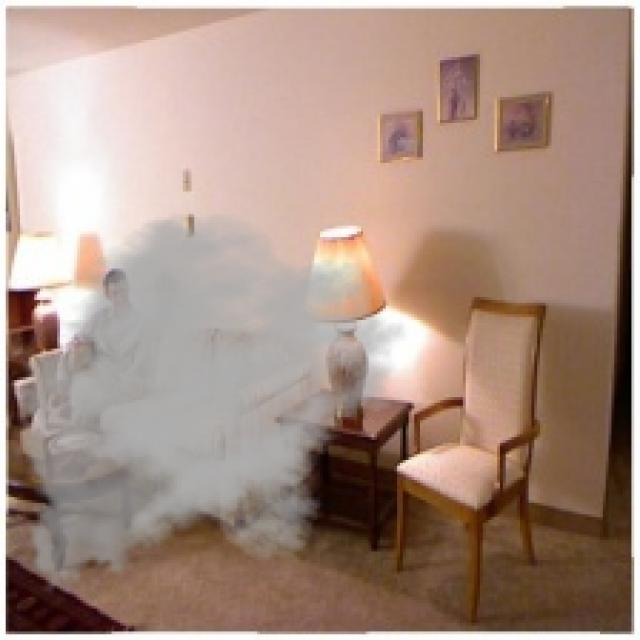smoke: (6, 211, 408, 600)
